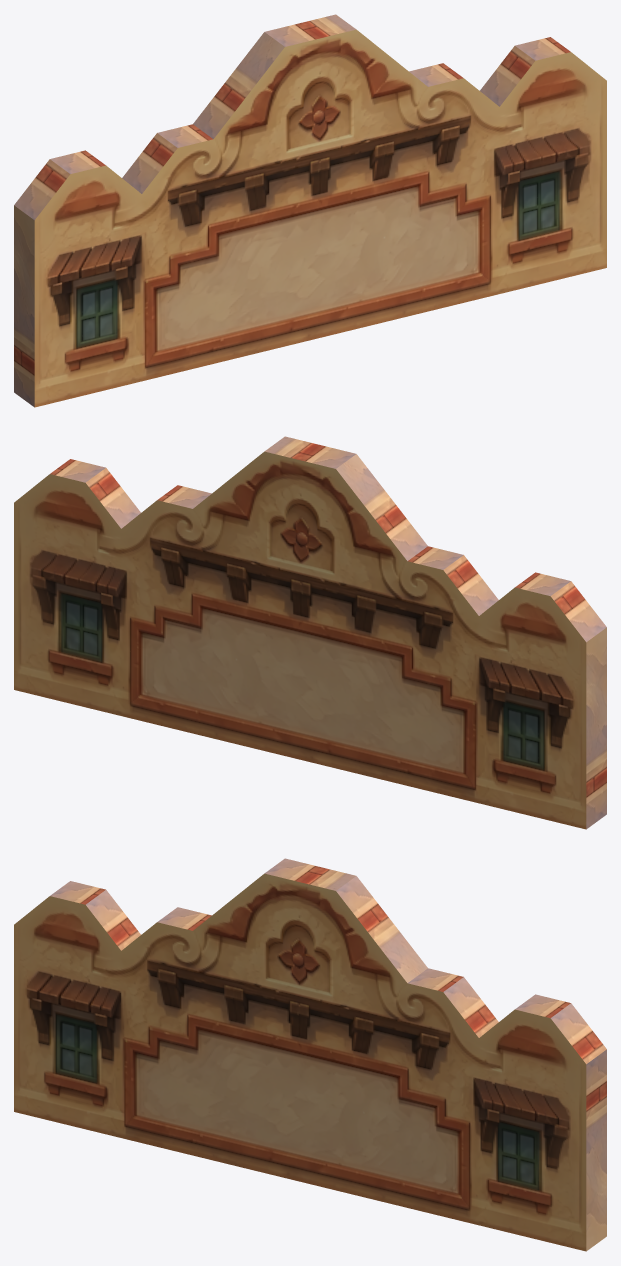
File: MSN_CrestB.fbx
The picture shows the model from 3 angles, top to bottom: view 1: azimuth 30°, elevation 25°; view 2: azimuth 150°, elevation 25°; view 3: azimuth 330°, elevation 25°; orthographic projection.
Visible parts, largest first — view 1: MSN_CrestB; view 2: MSN_CrestB; view 3: MSN_CrestB.
Part boxes in pixels (left/top/right/bottom): MSN_CrestB: left=14, top=14, right=606, bottom=407; MSN_CrestB: left=14, top=436, right=606, bottom=829; MSN_CrestB: left=14, top=858, right=606, bottom=1251.
Bounding box in the file's own units: 4 × 0.25 × 2.
1 material, 1 textured.
